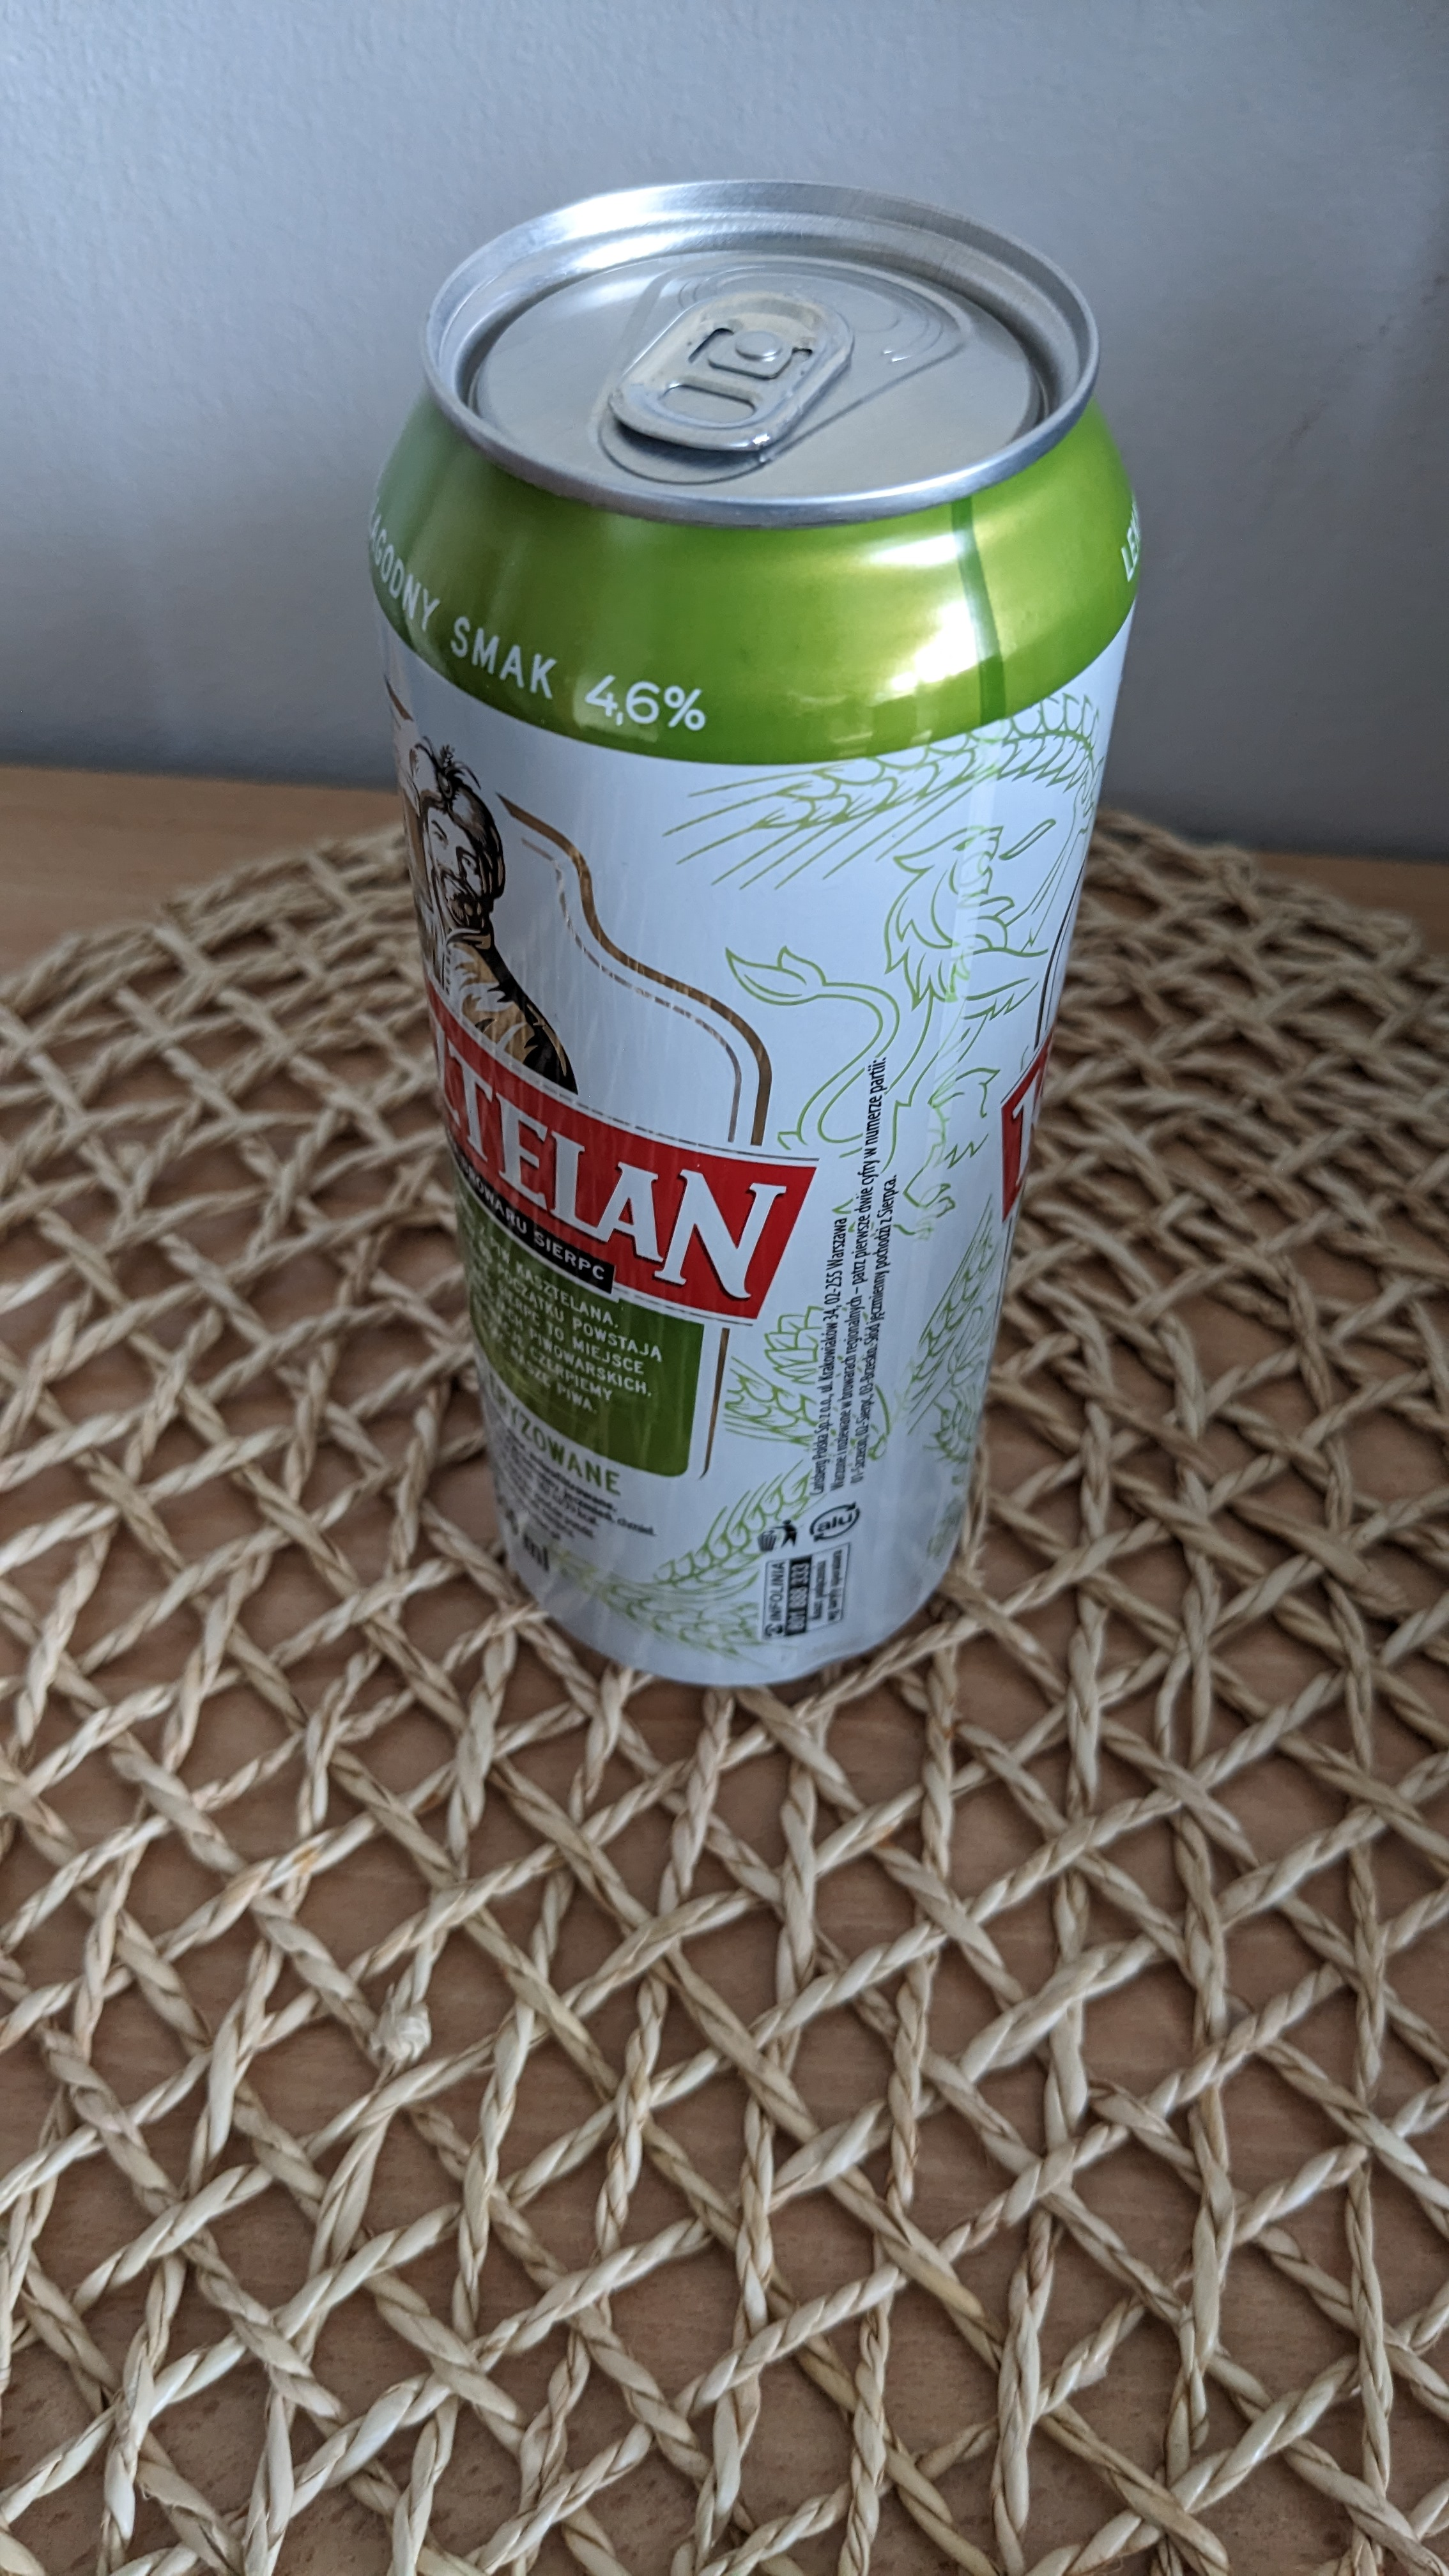kasztelan: (391, 184, 1118, 1709)
